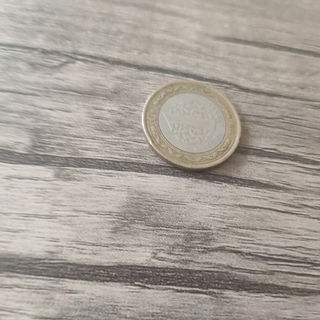1TL: (139, 77, 243, 173)
